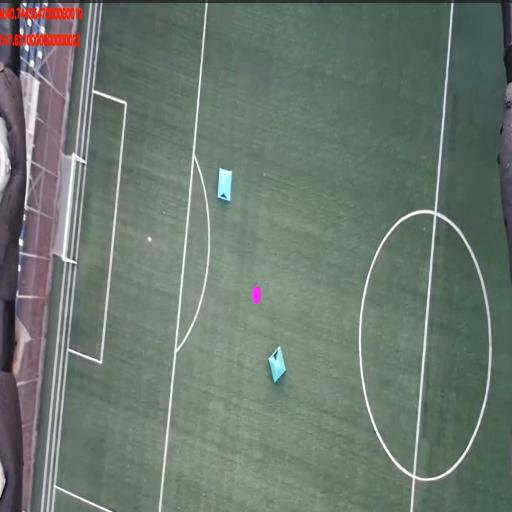tent: (266, 346, 288, 386), (216, 164, 234, 206)
